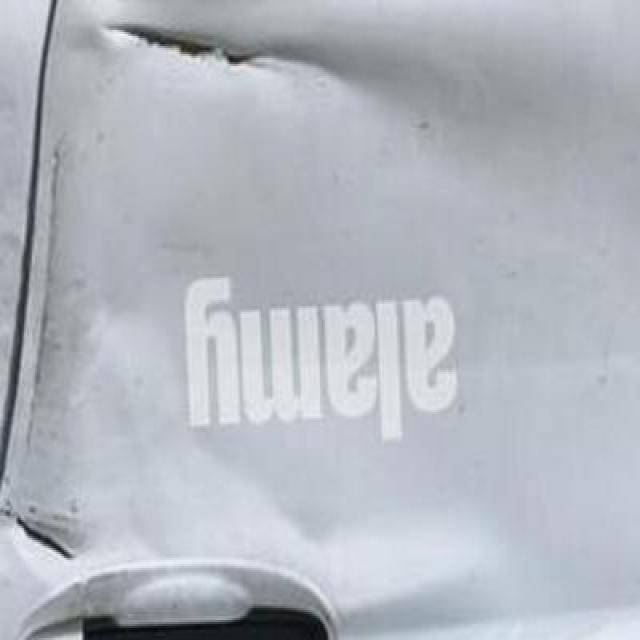dent: (81, 15, 342, 95), (0, 493, 83, 575)
